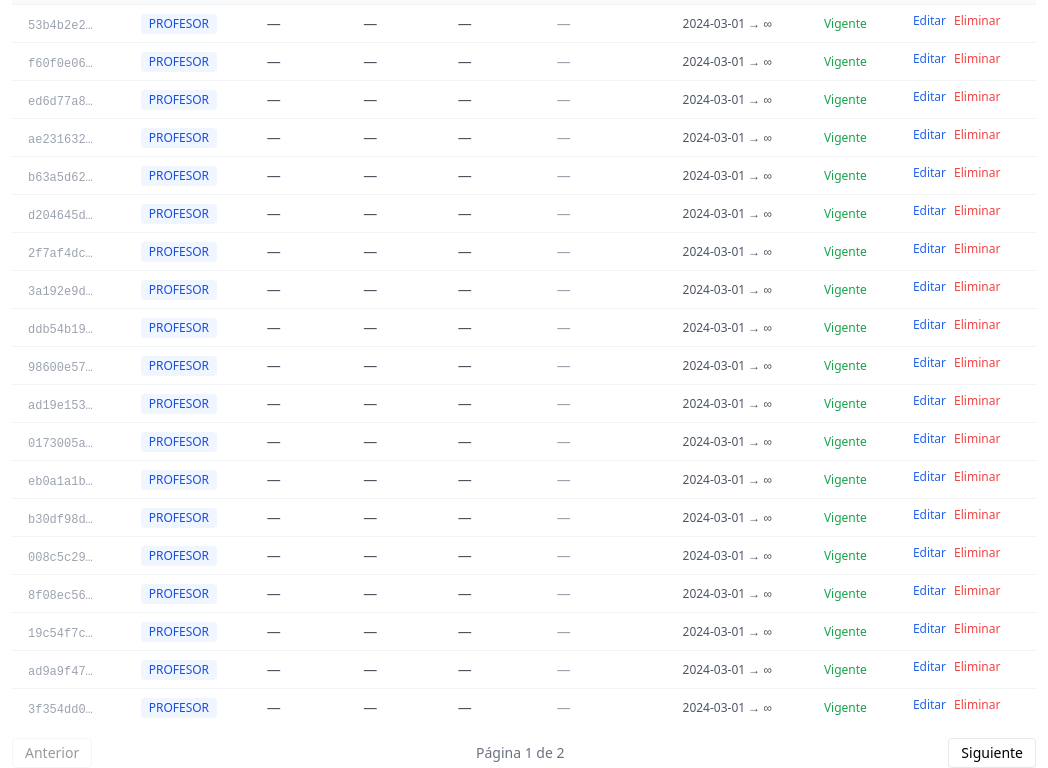
it: TablaEquipos › shows pagination when there are more than 20 asignaciones
(page scrolled)
Click the button "Siguiente": (992, 753) x1=948 y1=738 x2=1036 y2=767
(page scrolled)
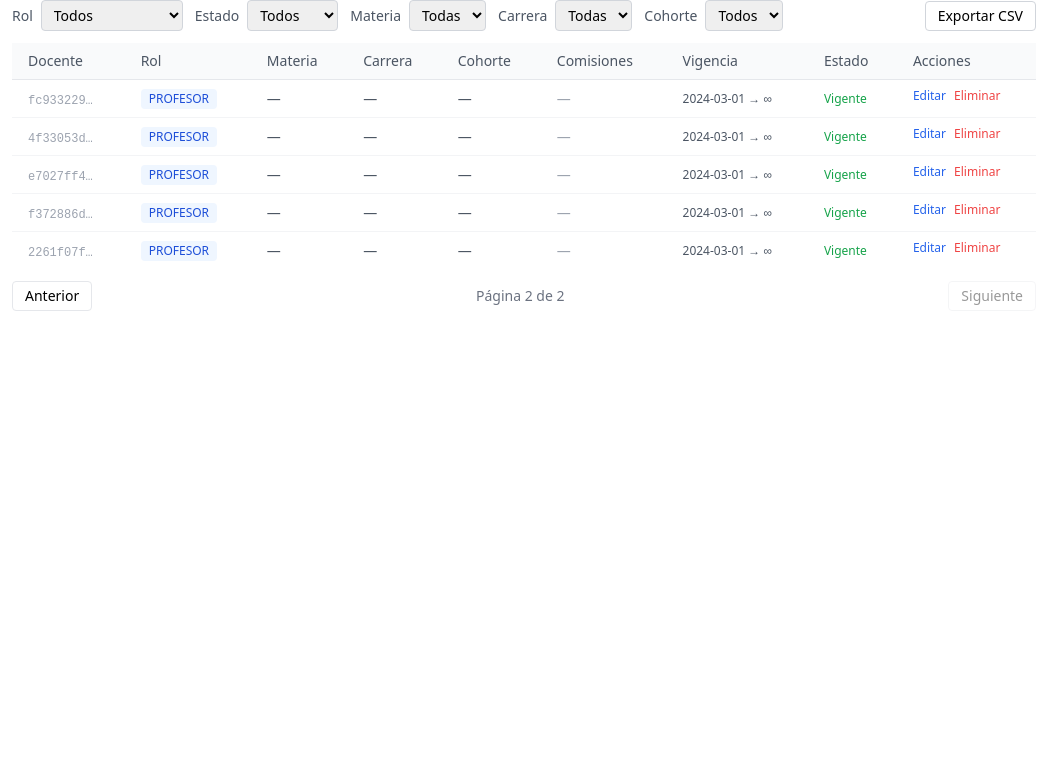
Expected: the text "Página 2 de 2" is shown, x1=476 y1=286 x2=564 y2=306
